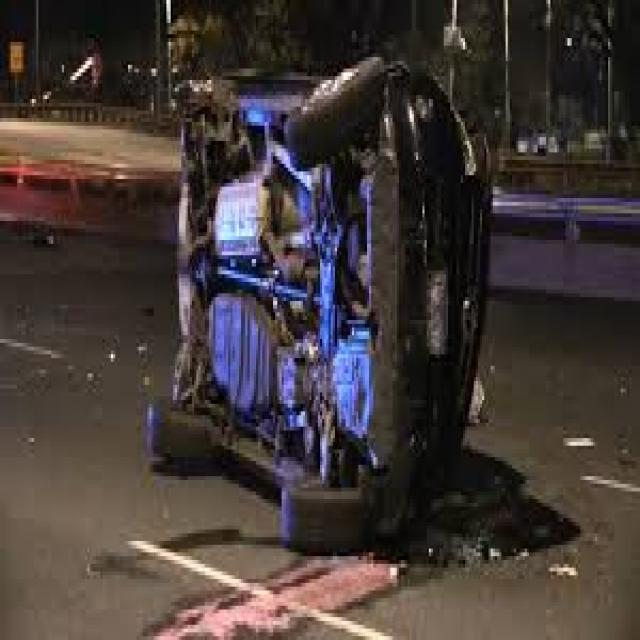accident: (146, 36, 507, 570)
